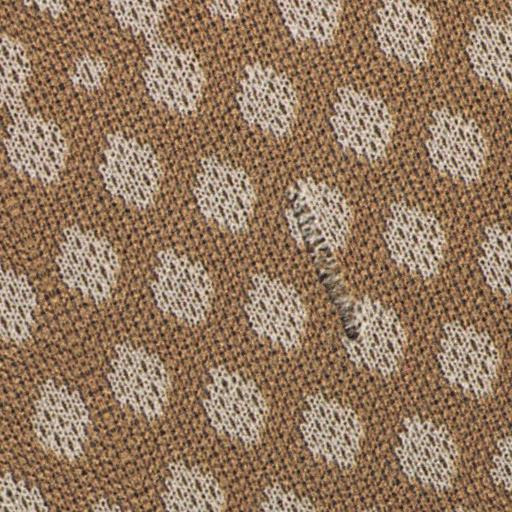slub: (272, 174, 375, 367)
